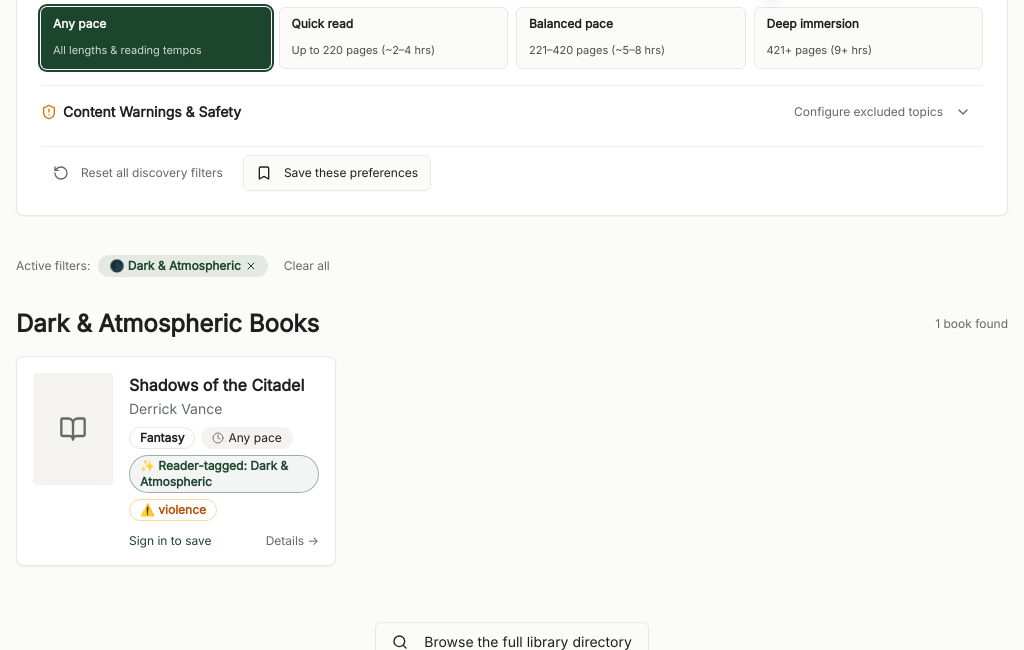
Scenario: Discovery Page with Mood & Pace Filters › clears all active filters when Clear all is pressed
(page scrolled)
Check: the heading "Shadows of the Citadel" is shown, box [129, 373, 319, 397]
Check: the text "The Cozy Tea Guild" is not shown
Click "Clear all"
Step 1. Click the button "Clear all" → (307, 266), box [276, 248, 338, 284]
(page scrolled)
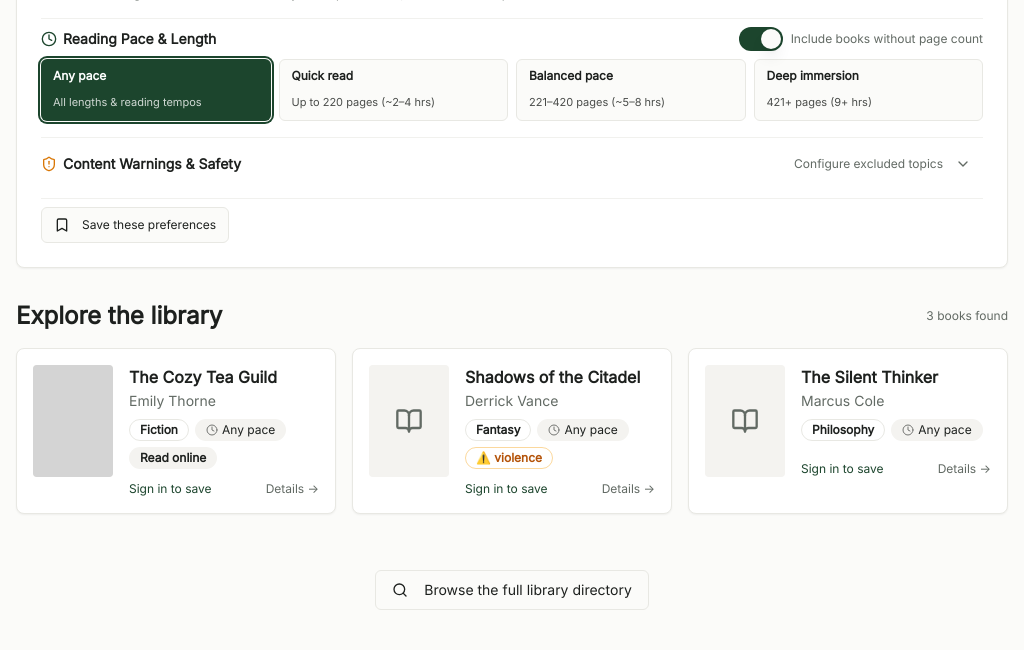
Check: the heading "Shadows of the Citadel" is shown, box [465, 365, 655, 389]
Check: the heading "The Cozy Tea Guild" is shown, box [129, 367, 277, 387]
Check: the heading "The Silent Thinker" is shown, box [801, 367, 938, 387]
